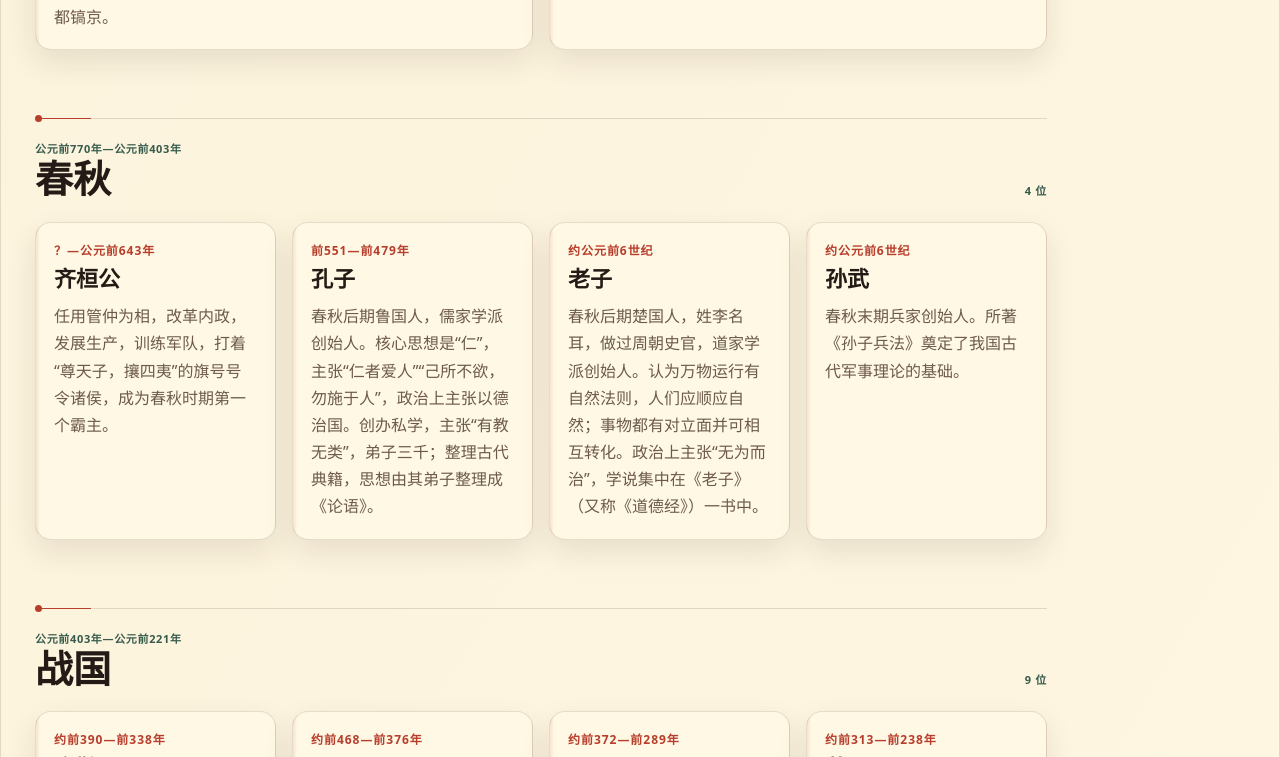
Test: PersonListPage › 人物卡片为 RouterLink，点击后详情内展示课程链接
This screenshot has width=1280, height=757.
(page scrolled)
Click the link with test id "person-card-g7u-confucius".
click(412, 381)  # box x1=292 y1=222 x2=533 y2=540
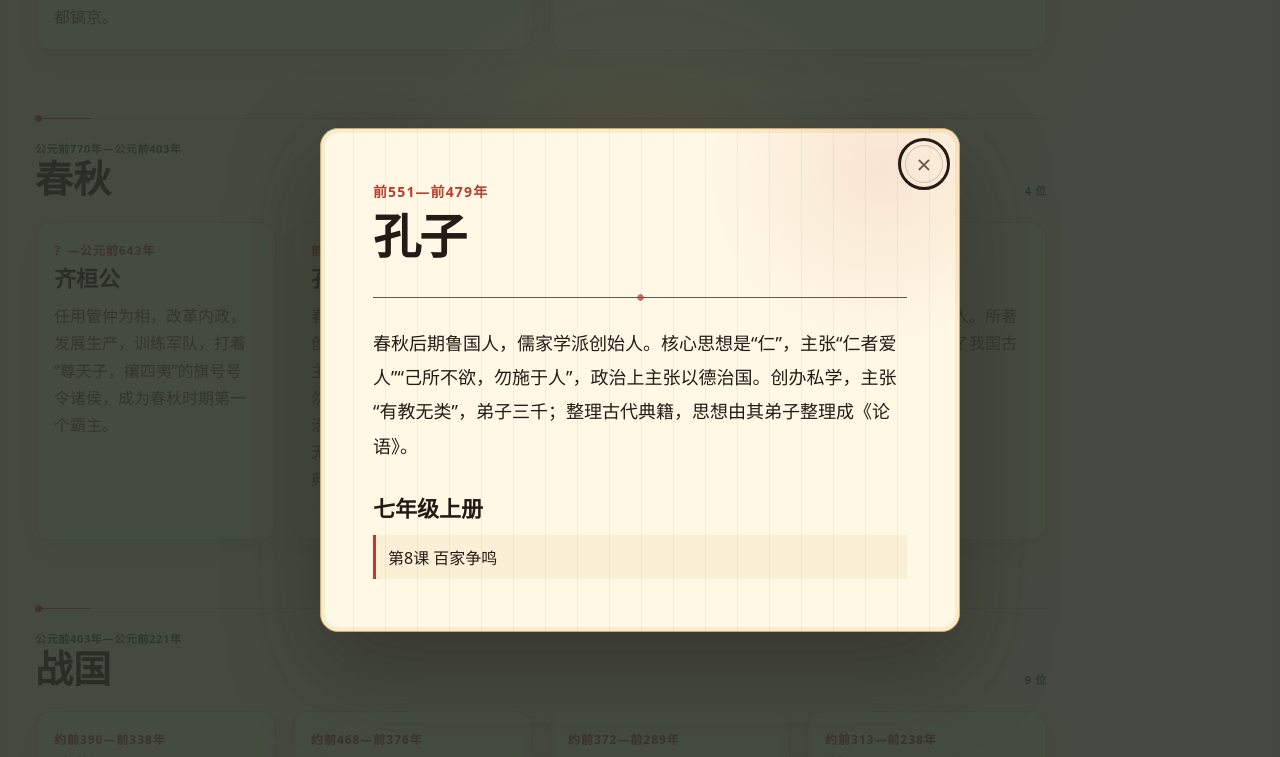
Now the dialog with test id "textbook-person-detail" shows "第8课 百家争鸣", box x1=373 y1=535 x2=907 y2=579
